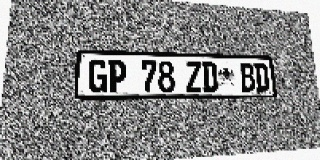7: (140, 60, 158, 92)
8: (158, 61, 175, 92)
B: (240, 63, 256, 92)
D: (201, 62, 218, 92), (254, 63, 270, 92)
G: (88, 59, 108, 93)
P: (108, 59, 126, 93)
Z: (185, 61, 202, 92)
